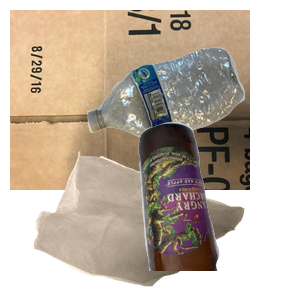cardboard: (10, 10, 250, 190)
glass: (136, 120, 300, 300)
plastic: (85, 45, 300, 175)
trash: (31, 149, 268, 300)
